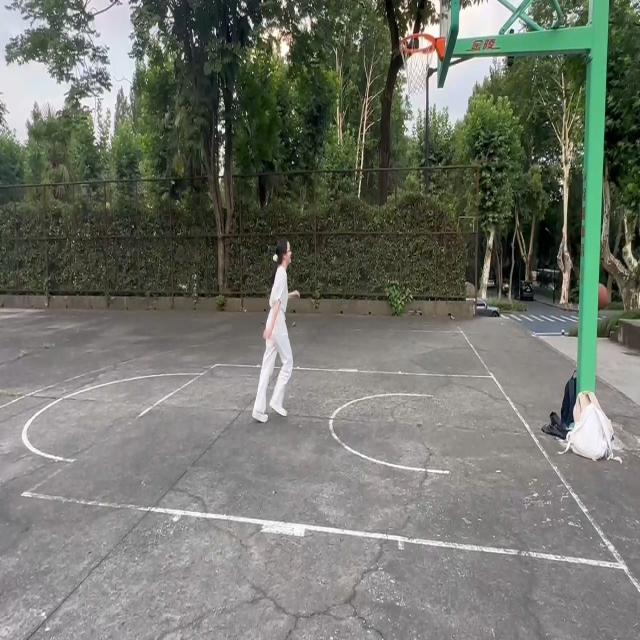basketball: (399, 34, 440, 96)
